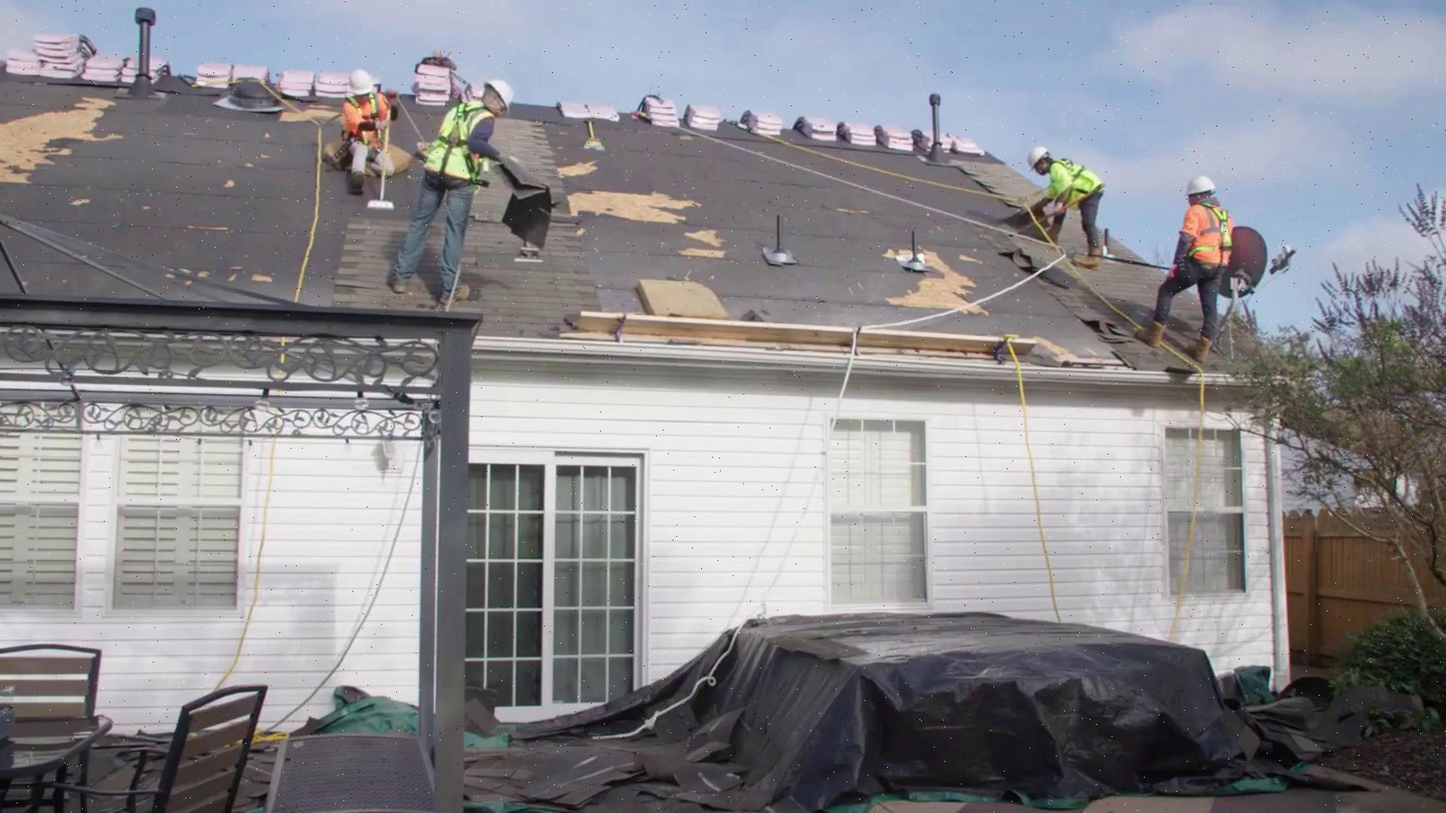Hard_hat: (484, 76, 517, 115), (1179, 170, 1219, 196), (1018, 142, 1054, 170)
Vest: (434, 102, 487, 189), (1177, 204, 1236, 267), (341, 93, 391, 145), (1048, 159, 1101, 206)
